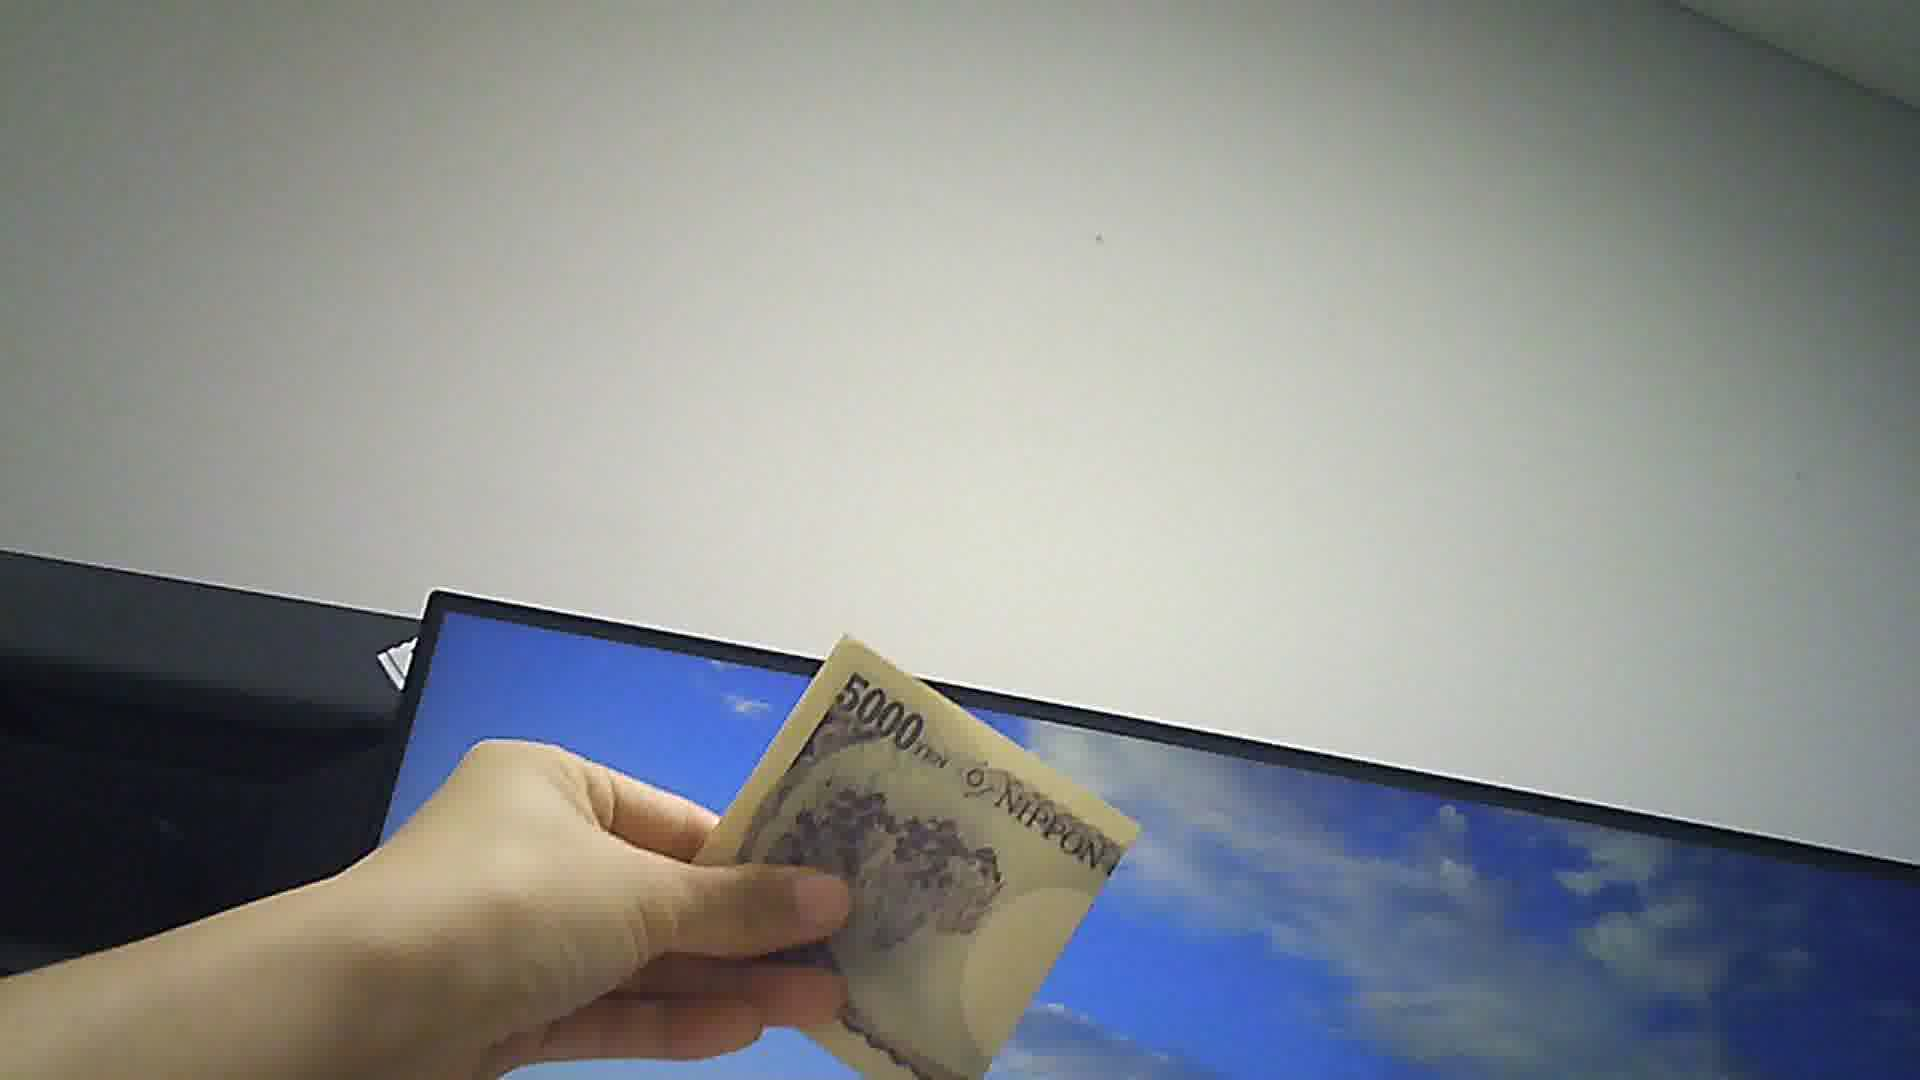5,000 Yen: (658, 618, 1134, 1079)
